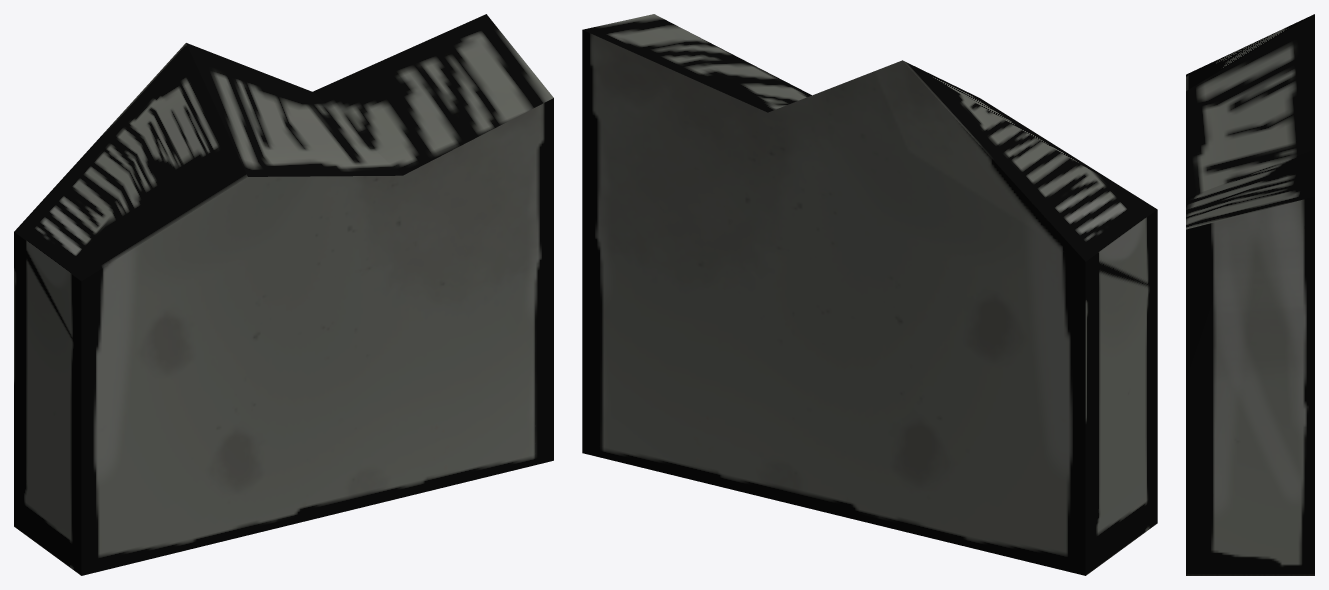
File: tombstone5_gib1.fbx
The picture shows the model from 3 angles, left to right: view 1: azimuth 30°, elevation 25°; view 2: azimuth 150°, elevation 25°; view 3: azimuth 270°, elevation 25°; orthographic projection. The views are drawn at different scales.
Visible parts, largest first — view 1: tombstone5_gib1; view 2: tombstone5_gib1; view 3: tombstone5_gib1.
Boxes of the visible parts, x1=… form: tombstone5_gib1: x1=14, y1=14, x2=553, y2=575; tombstone5_gib1: x1=582, y1=14, x2=1157, y2=575; tombstone5_gib1: x1=1186, y1=14, x2=1314, y2=575.
Size of the model in its own units: 154 by 138 by 38.13.
